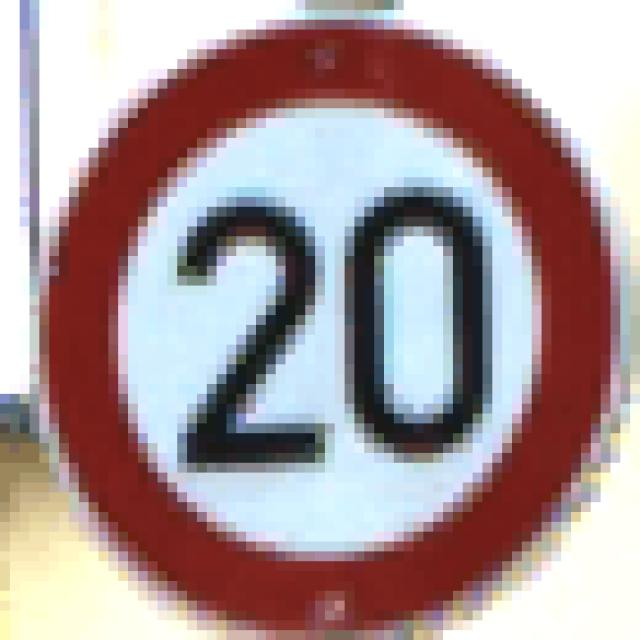forb_speed_over_20: (35, 9, 637, 636)
